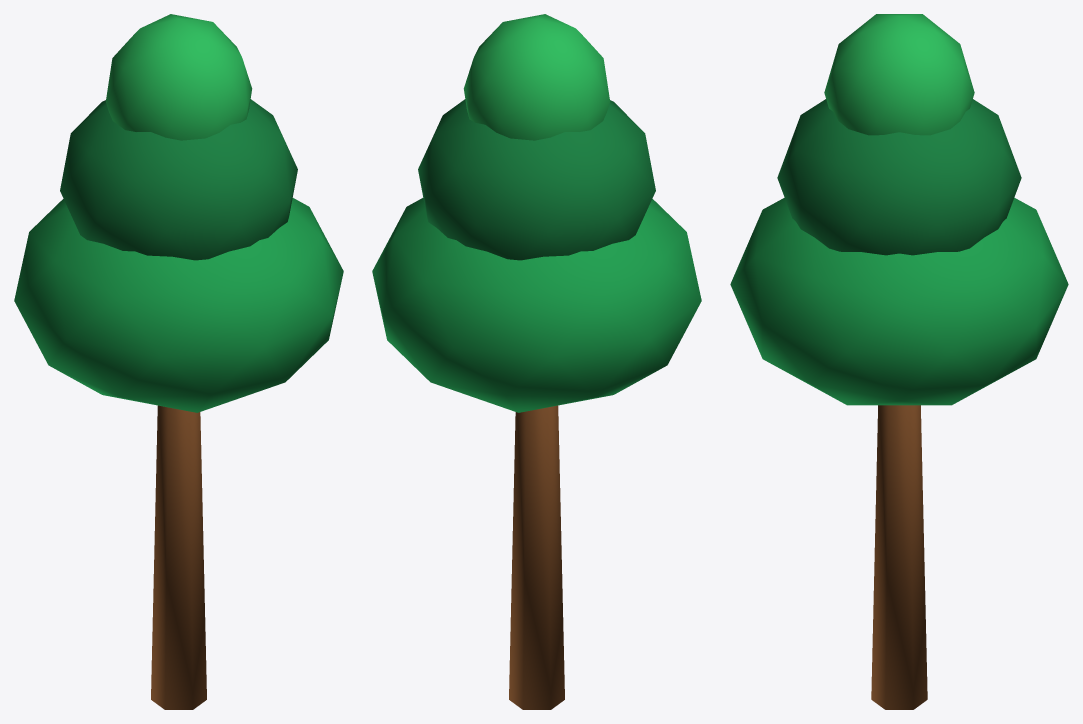
The model's file is pine_lod.glb.
3 views of the same model, side by side, from view 1: azimuth 30°, elevation 25°; view 2: azimuth 150°, elevation 25°; view 3: azimuth 270°, elevation 25° (orthographic).
Parts seen in each view (by area): view 1: plod_t0, plod_t1, plod_trunk, plod_t2; view 2: plod_t0, plod_t1, plod_trunk, plod_t2; view 3: plod_t0, plod_t1, plod_trunk, plod_t2.
Part boxes in pixels (x1,y1,x2,y2): plod_t0: (14,198,343,412); plod_t1: (60,99,297,260); plod_trunk: (151,405,206,709); plod_t2: (105,14,252,140); plod_t0: (372,198,701,412); plod_t1: (418,99,655,260); plod_trunk: (509,405,564,709); plod_t2: (463,14,610,140); plod_t0: (730,198,1068,405); plod_t1: (777,99,1021,255); plod_trunk: (871,405,927,709); plod_t2: (824,14,974,135).
Size of the model in its own units: 1.37 by 3.21 by 1.44.
